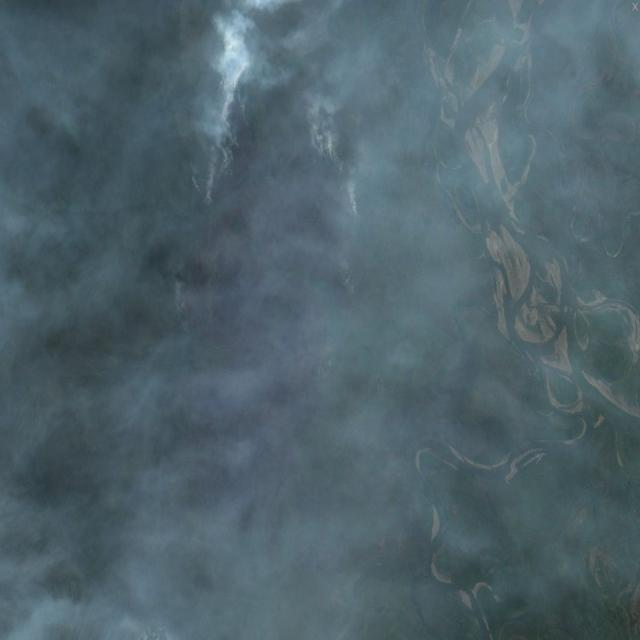fire: (183, 58, 374, 254)
